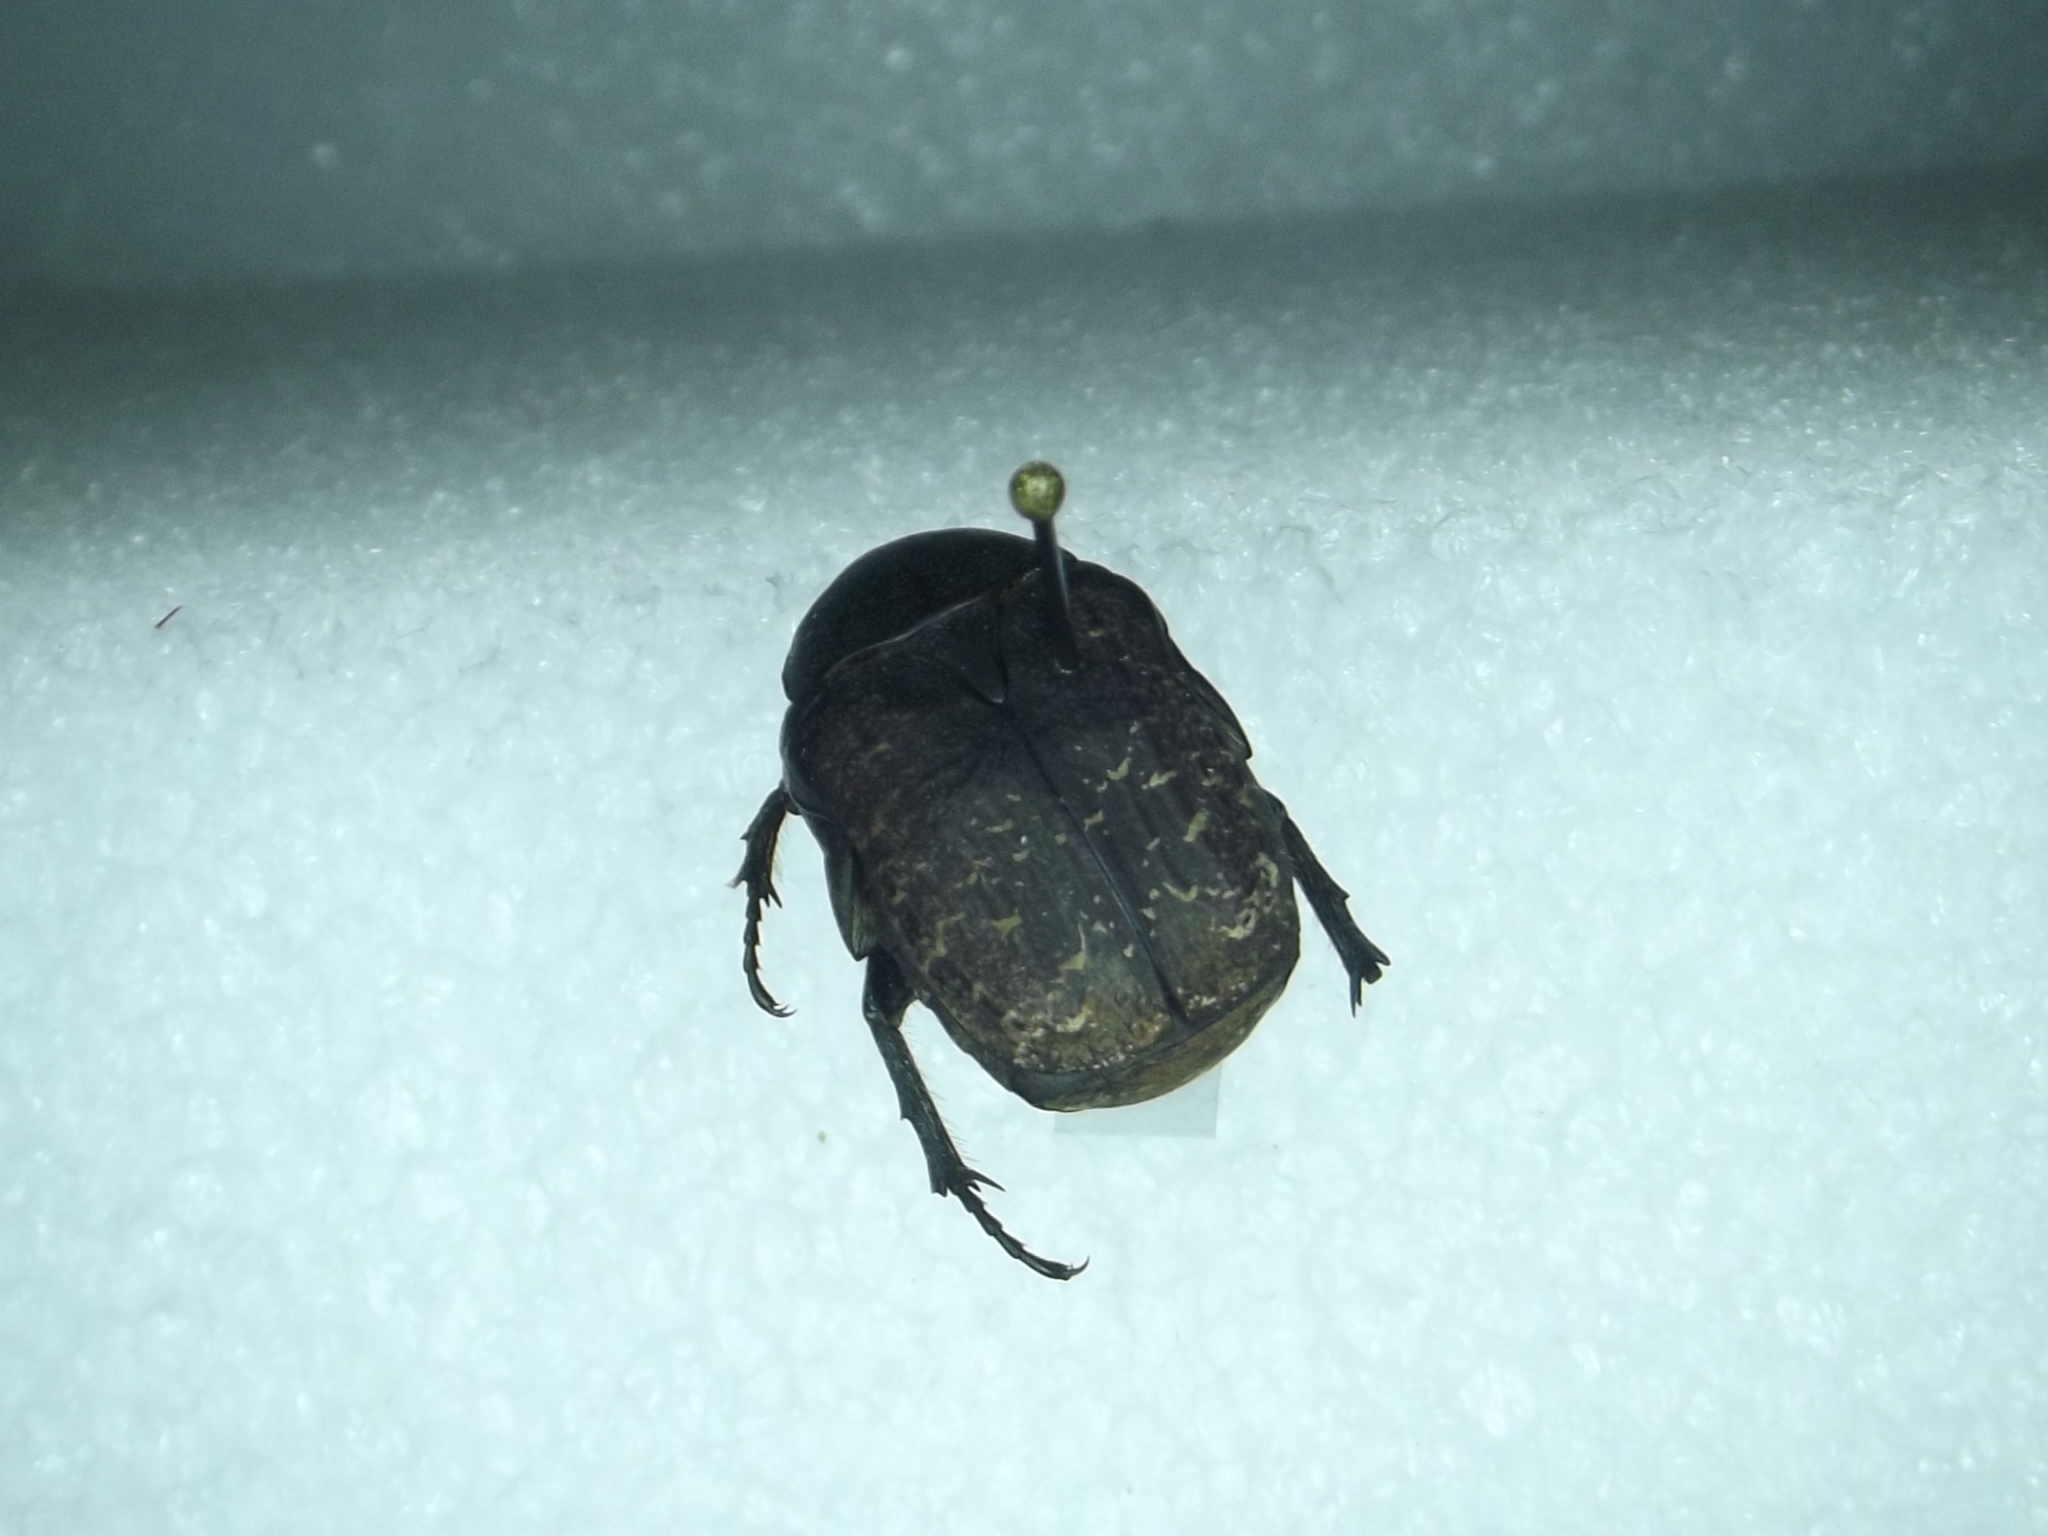Protaetia_oblonga: (719, 474, 1405, 1302)
